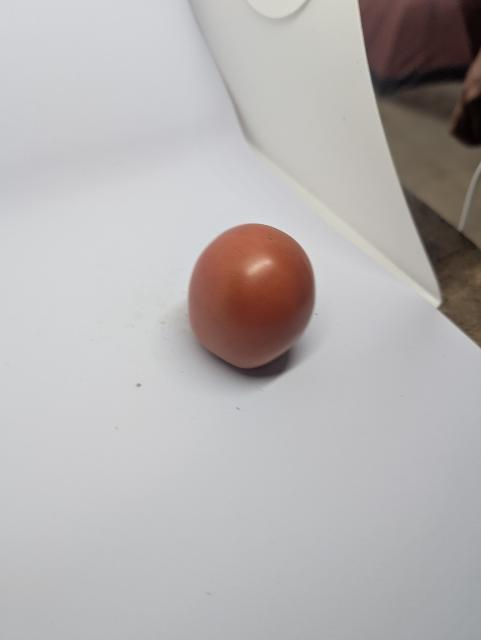red: (180, 210, 343, 386)
